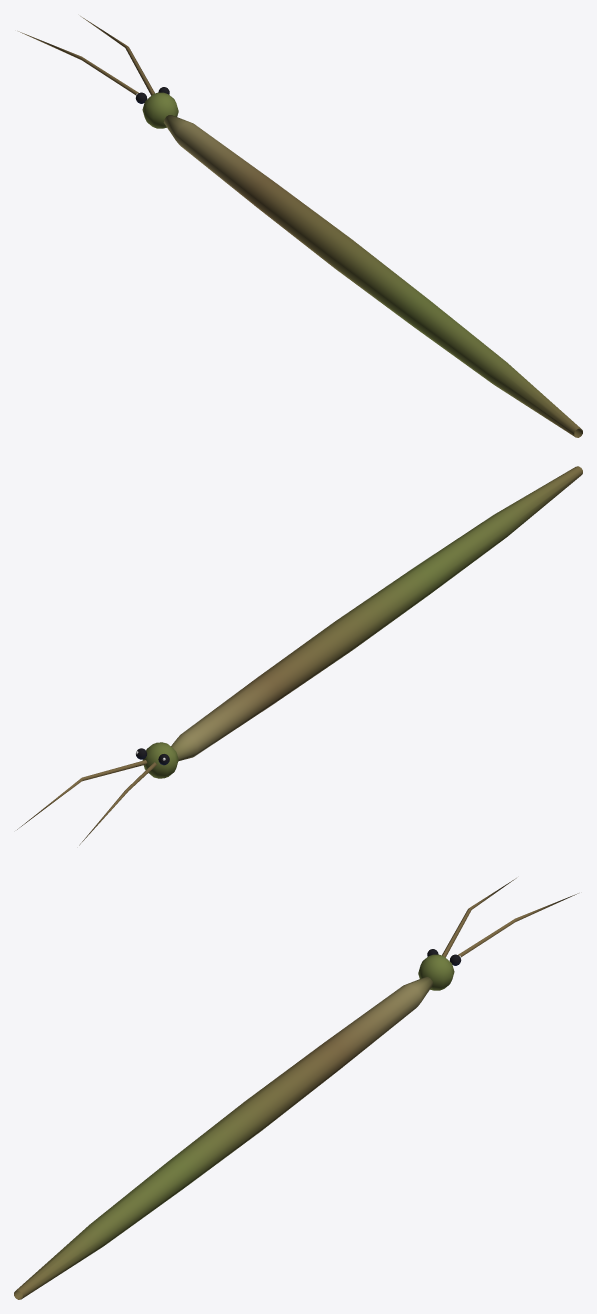
The model's file is Nanafushi.fbx.
3 views of the same model, one above another, from view 1: azimuth 30°, elevation 25°; view 2: azimuth 150°, elevation 25°; view 3: azimuth 330°, elevation 25° (orthographic).
Visible parts, largest first — view 1: Nanafushi; view 2: Nanafushi; view 3: Nanafushi.
Part boxes in pixels (left/top/right/bottom): Nanafushi: left=18, top=16, right=582, bottom=437; Nanafushi: left=17, top=466, right=582, bottom=845; Nanafushi: left=14, top=878, right=578, bottom=1299.
Size of the model in its own units: 0.28 by 0.188 by 4.08.
